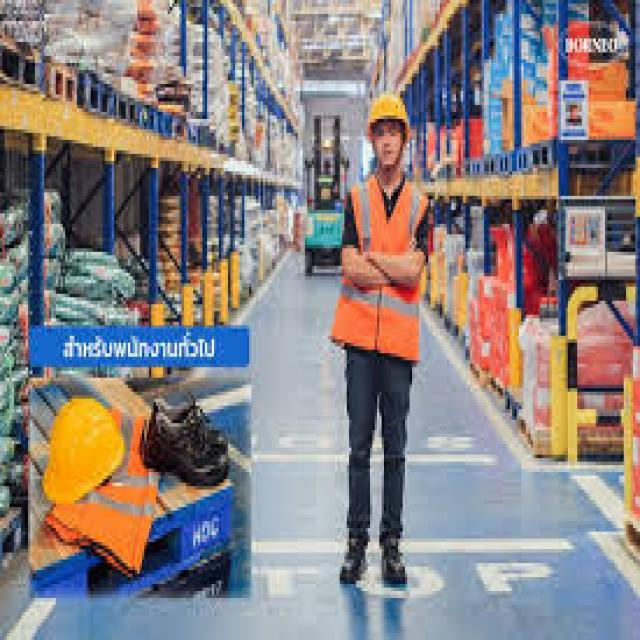reflective_jacket: (328, 171, 432, 367)
safety_helmet: (41, 391, 130, 507), (360, 87, 414, 136)
